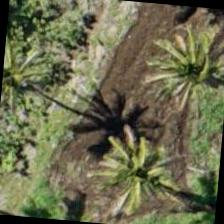Kelapa_Sawit: (90, 127, 189, 223), (146, 23, 223, 120), (0, 34, 59, 129)
